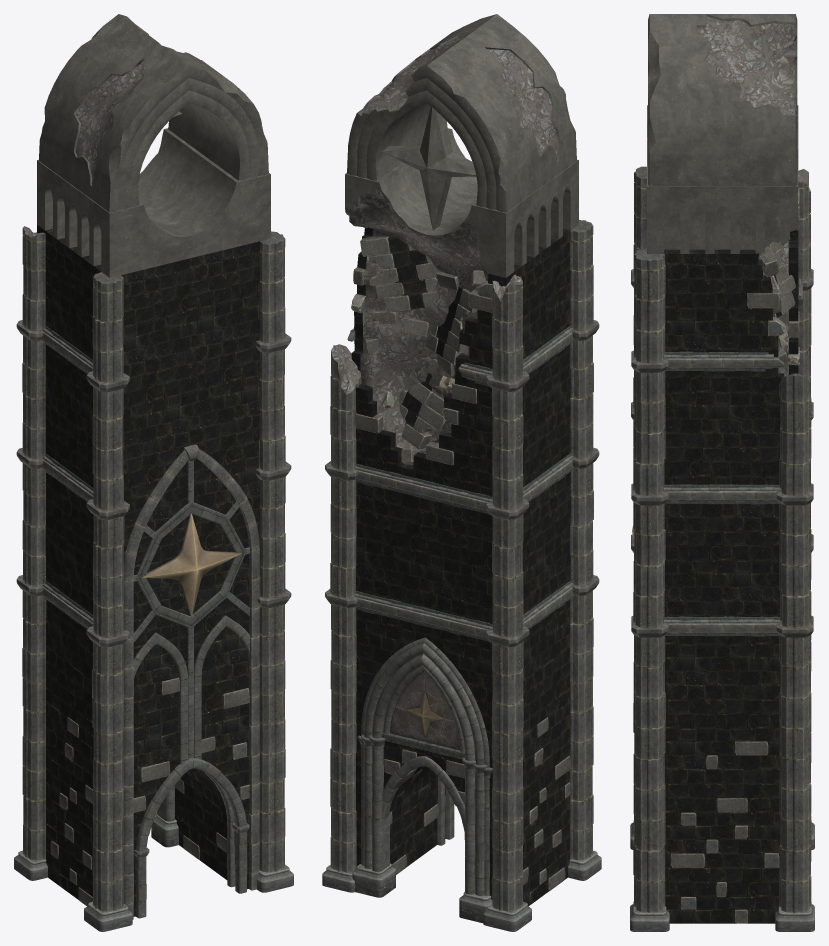
3 renders of one model, left to right at view 1: azimuth 30°, elevation 25°; view 2: azimuth 150°, elevation 25°; view 3: azimuth 270°, elevation 25°, orthographic. The views are drawn at different scales.
Visible parts, largest first — view 1: SM_SaradominTemple_Entrance_02_v1_LOD0; view 2: SM_SaradominTemple_Entrance_02_v1_LOD0; view 3: SM_SaradominTemple_Entrance_02_v1_LOD0.
Boxes of the visible parts, x1=… form: SM_SaradominTemple_Entrance_02_v1_LOD0: x1=14, y1=14, x2=293, y2=931; SM_SaradominTemple_Entrance_02_v1_LOD0: x1=322, y1=14, x2=601, y2=931; SM_SaradominTemple_Entrance_02_v1_LOD0: x1=630, y1=14, x2=814, y2=931.
Bounding box in the file's own units: 10.02 × 41.18 × 7.95.
Materials: 7 (7 with a texture image).
